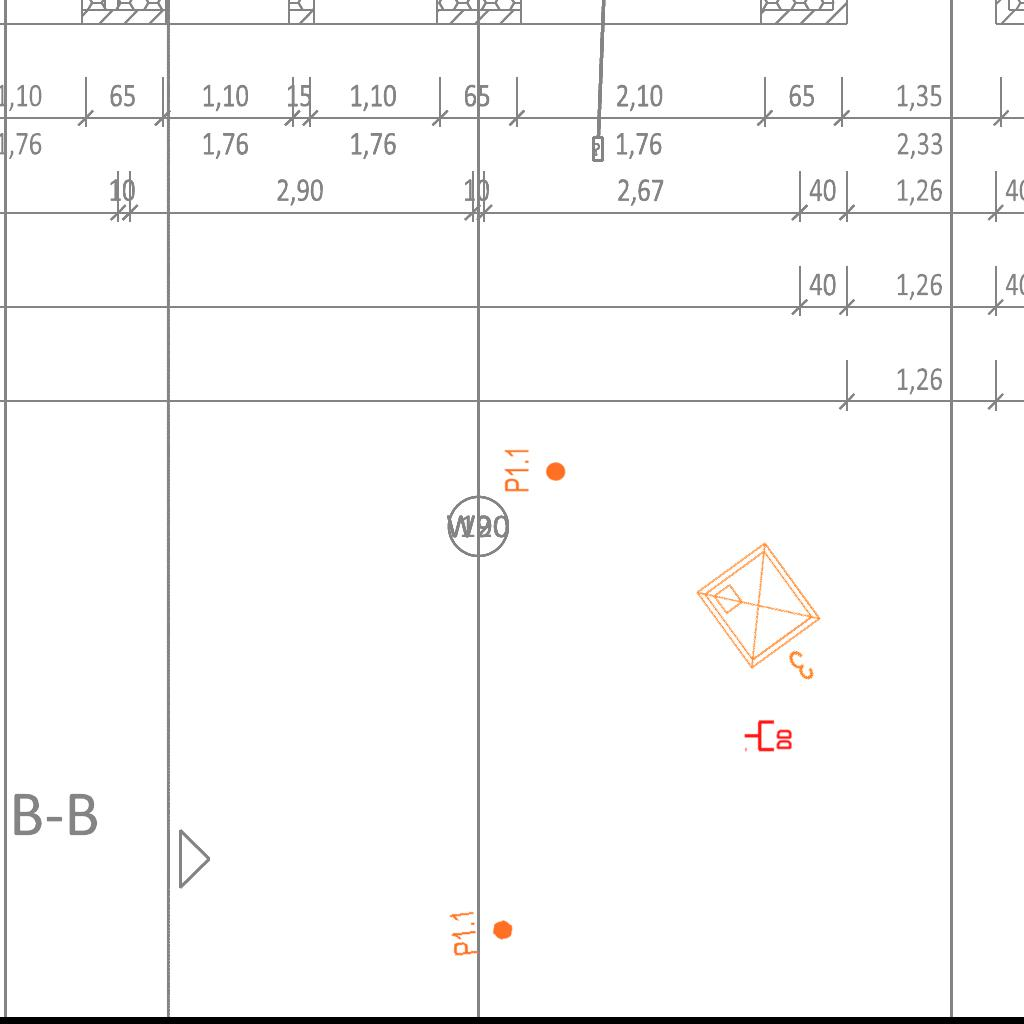Datenanschluss_zweifach: (743, 718, 794, 752)
Downlight_LED_Einbauleuchten_Flur: (447, 904, 517, 958), (503, 447, 567, 493)
Einbaudownlights_LED_Konferenzraeume: (685, 529, 859, 713)
